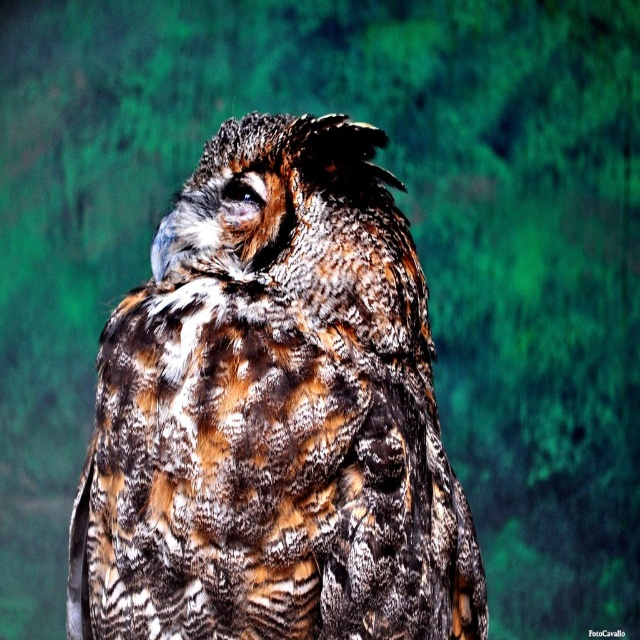Owl: (57, 104, 494, 639)
